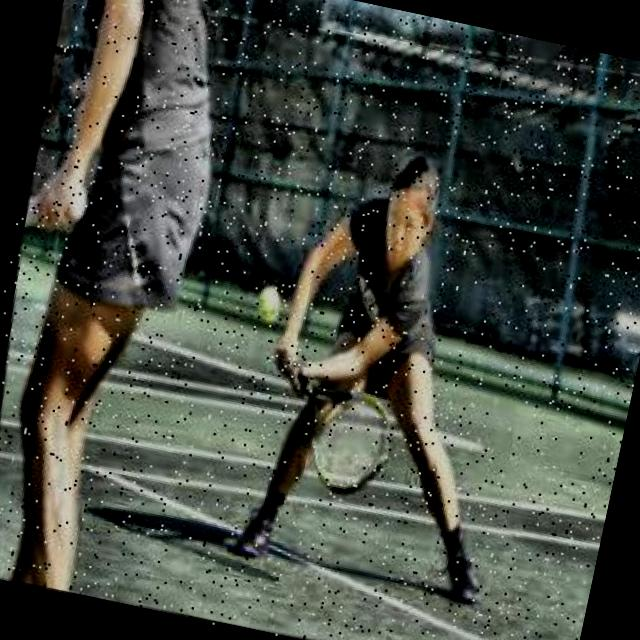tennis-ball: (243, 276, 286, 327)
